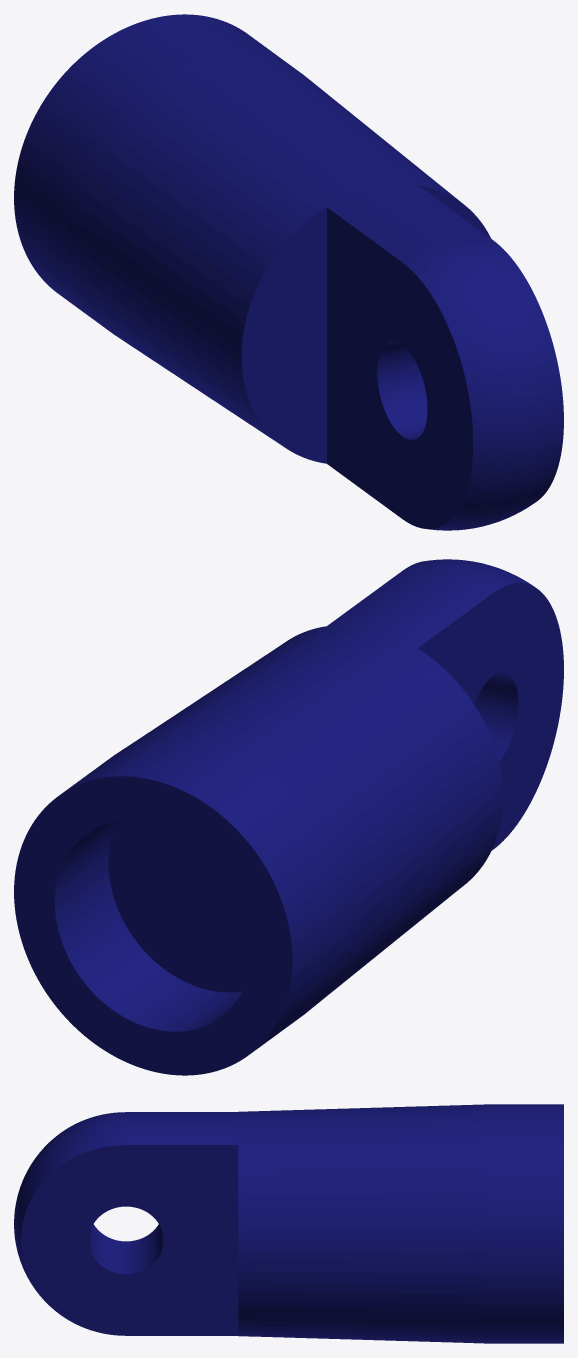
3 views of the same model, one above another, from view 1: azimuth 30°, elevation 25°; view 2: azimuth 150°, elevation 25°; view 3: azimuth 270°, elevation 25° (orthographic). The views are drawn at different scales.
Parts seen in each view (by area): view 1: node; view 2: node; view 3: node.
Boxes of the visible parts, bbox=[...] form: node: bbox=[14, 14, 563, 530]; node: bbox=[14, 559, 563, 1075]; node: bbox=[14, 1104, 563, 1343].
Bounding box in the file's own units: 0.0729 × 0.0729 × 0.1678.
